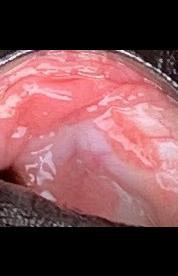eye_membrane: (0, 50, 178, 226)
